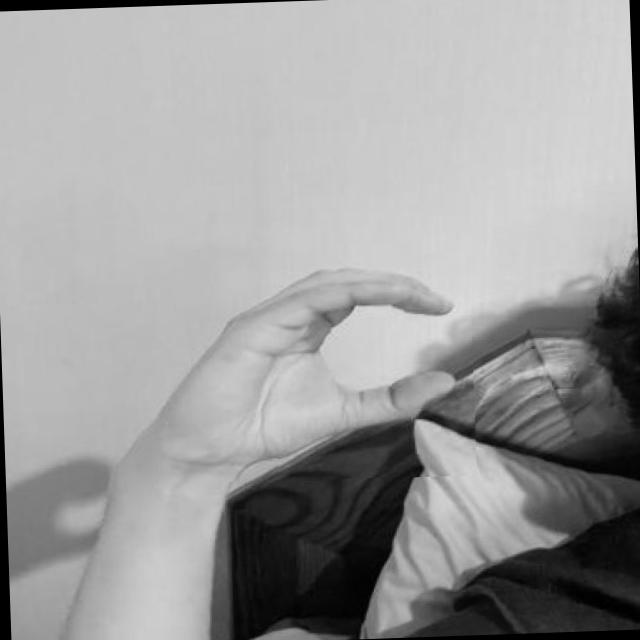C: (134, 248, 476, 486)
